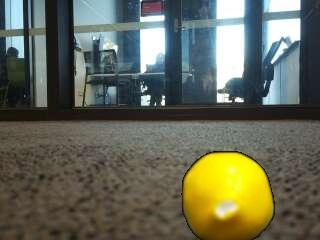lemon: (186, 152, 273, 239)
